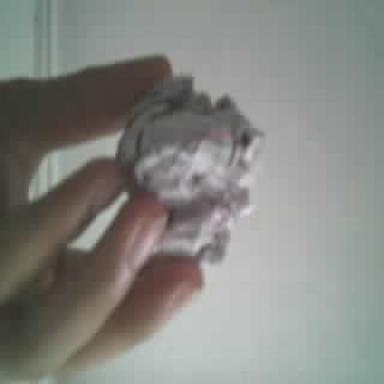paper: (118, 75, 263, 261)
